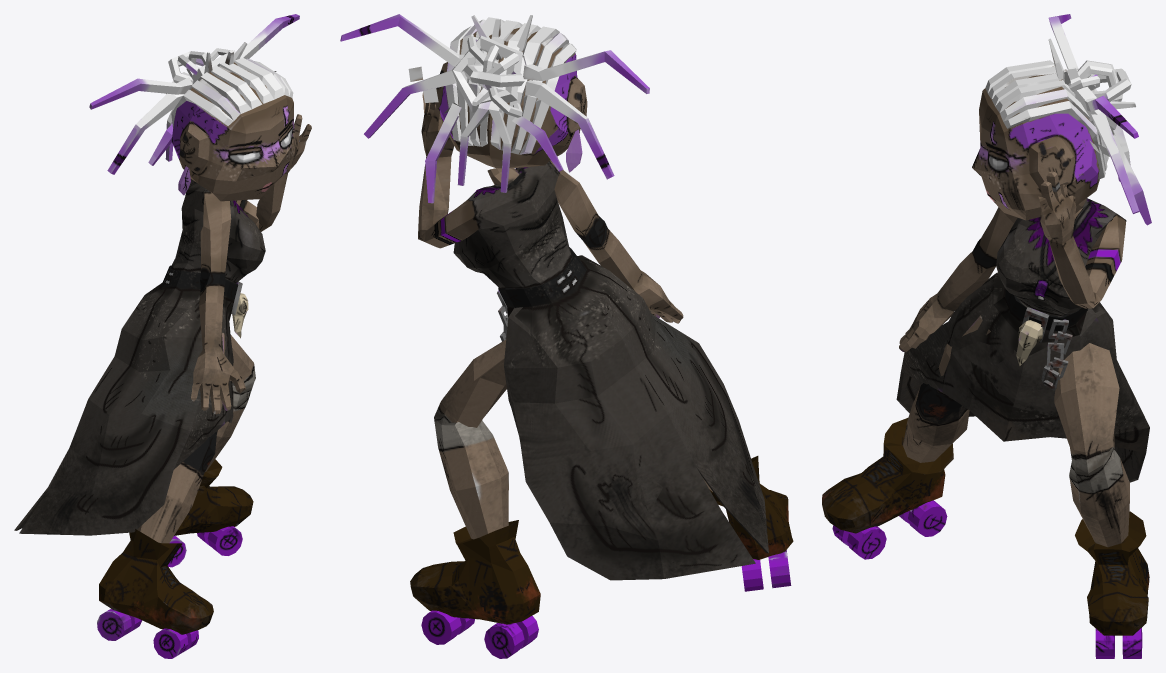
Rendered from bruja_000039.obj.
3 views of the same model, side by side, from view 1: azimuth 30°, elevation 25°; view 2: azimuth 150°, elevation 25°; view 3: azimuth 270°, elevation 25° (orthographic). The views are drawn at different scales.
Visible parts, largest first — view 1: Bruja_Plane.001; view 2: Bruja_Plane.001; view 3: Bruja_Plane.001.
Boxes of the visible parts, left/top/right/bottom form: Bruja_Plane.001: left=14, top=14, right=311, bottom=658; Bruja_Plane.001: left=340, top=14, right=793, bottom=658; Bruja_Plane.001: left=822, top=14, right=1151, bottom=658.
Size of the model in its own units: 9.98 by 15.44 by 7.75.
